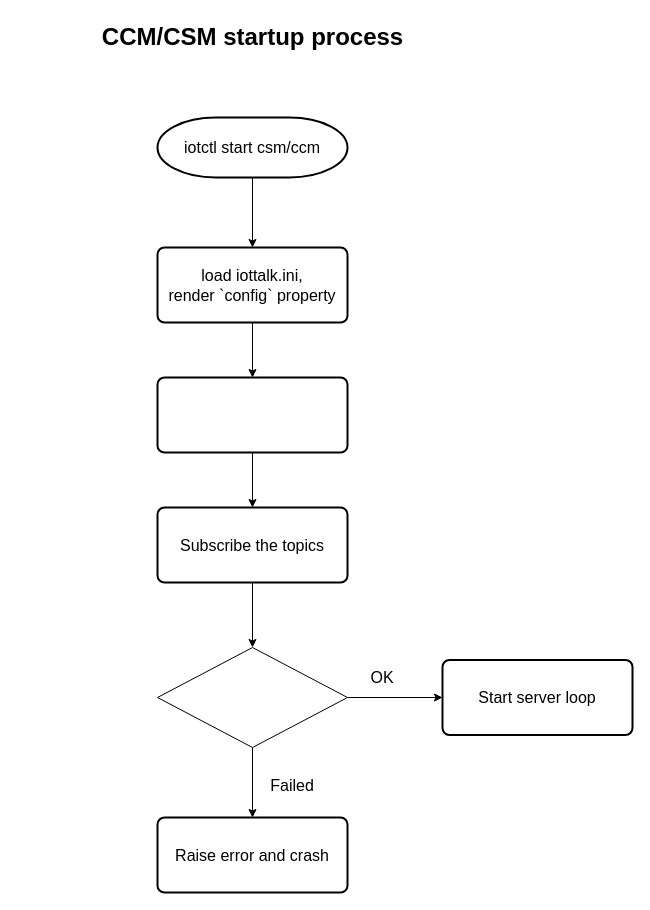
Some shapes in this 650 by 910 pixel diagram are drawn without their labels. The shapes that lost their labels are listed below. From the top down, each one's centre as x and y in pixels, then its label:
At pixel 252 414: "connect to MQTT broker with the credentials".
At pixel 252 697: "Check subscription return code".
